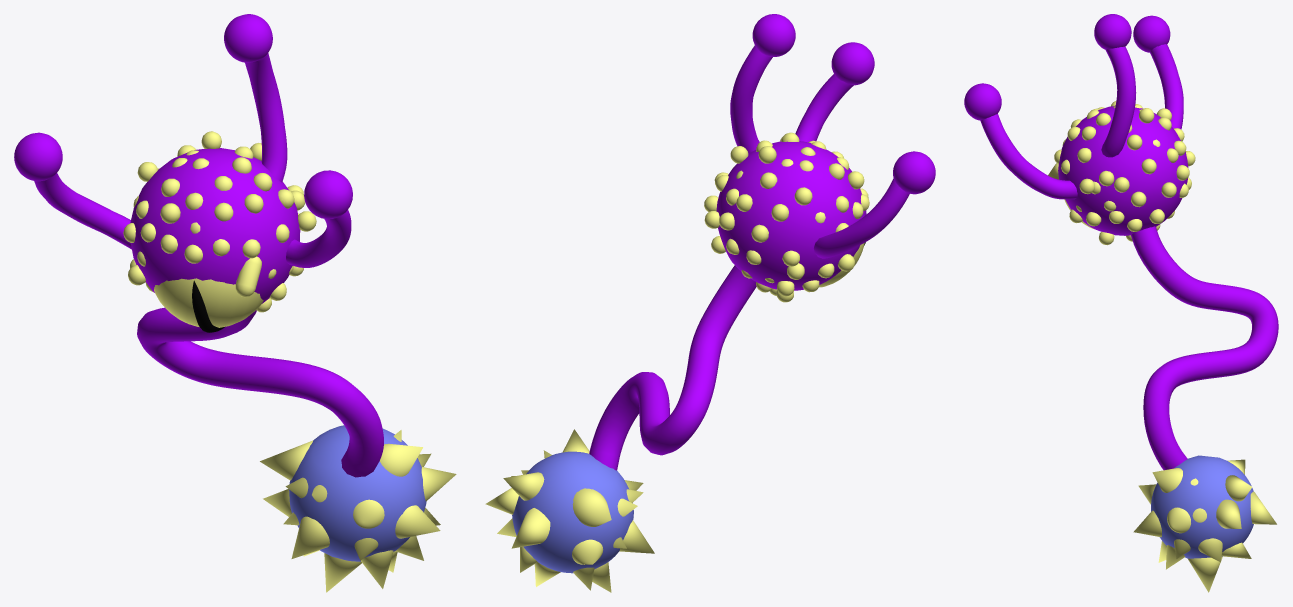
Rendered from scene-mquz9mma.glb.
3 renders of one model, left to right at view 1: azimuth 30°, elevation 25°; view 2: azimuth 150°, elevation 25°; view 3: azimuth 270°, elevation 25°, orthographic. The views are drawn at different scales.
Visible parts, largest first — view 1: p.0044, s.0055, p.0057, p.0051, s.0032, s.0046, s.0048, p.0047, p.0015, p.0045, p.0062, p.0074 (+8 smaller); view 2: p.0044, s.0055, p.0057, s.0046, s.0032, s.0048, p.0015, p.0047, p.0045, p.0075, p.0079, p.0081 (+2 smaller); view 3: s.0055, p.0044, p.0057, s.0048, s.0032, s.0046, p.0047, p.0015, p.0045, p.0058, p.0059, p.0074 (+5 smaller).
Part boxes in pixels (x1,y1,x2,y2): p.0044: (130,148,300,303); s.0055: (137,307,383,477); p.0057: (289,425,426,561); p.0051: (154,278,263,327); s.0032: (245,53,287,182); s.0046: (34,173,131,249); s.0048: (286,210,351,267); p.0047: (304,170,352,219); p.0015: (224,14,272,62); p.0045: (14,132,62,181); p.0062: (291,516,329,558); p.0074: (380,443,422,476); p.0044: (716,141,866,290); s.0055: (589,265,756,470); p.0057: (512,451,633,573); s.0046: (814,178,909,258); s.0032: (730,45,772,153); s.0048: (795,74,853,142); p.0015: (752,14,795,56); p.0047: (831,42,874,85); p.0045: (893,151,935,194); p.0075: (572,488,611,526); p.0079: (511,508,550,548); p.0081: (503,472,544,500); s.0055: (1131,226,1278,470); p.0044: (1058,106,1188,235); p.0057: (1151,455,1253,558); s.0048: (980,113,1077,199); s.0032: (1101,46,1136,157); s.0046: (1150,44,1183,129); p.0047: (964,83,1001,120); p.0015: (1094,14,1131,49); p.0045: (1133,15,1170,52); p.0058: (1187,556,1222,592); p.0059: (1216,499,1241,528); p.0074: (1152,468,1182,492).
Bounding box in the file's own units: 3920 × 5396 × 3076.
